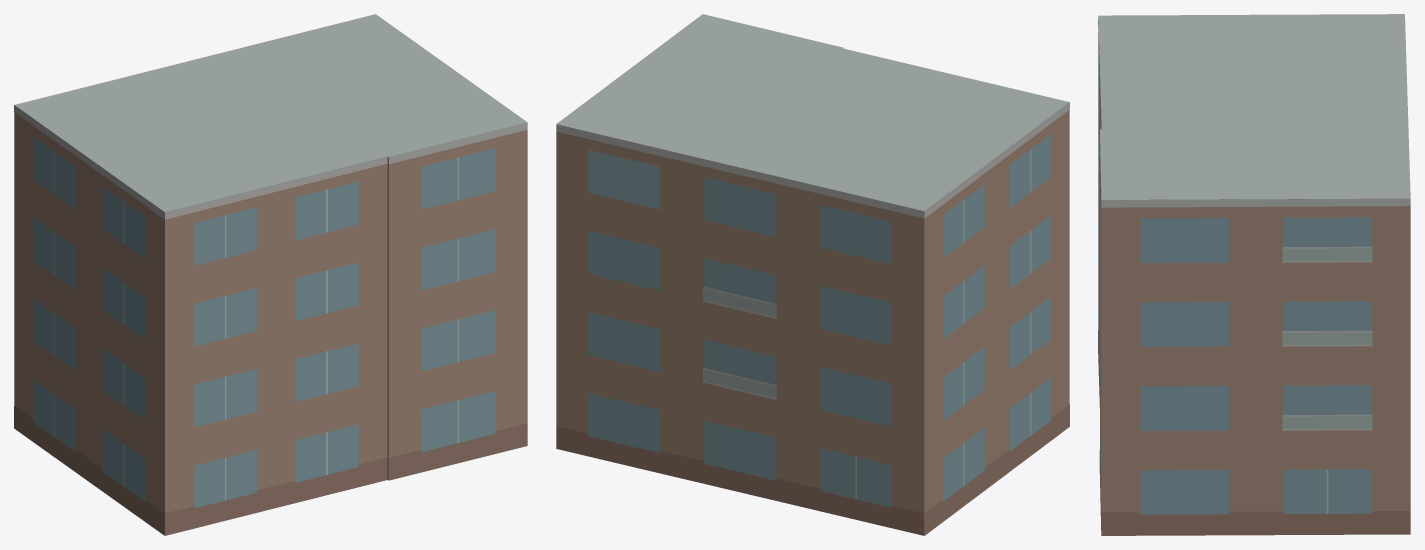
The model's file is survey-upis-32538438.glb.
The picture shows the model from 3 angles, left to right: view 1: azimuth 30°, elevation 25°; view 2: azimuth 150°, elevation 25°; view 3: azimuth 270°, elevation 25°; orthographic projection. The views are drawn at different scales.
Visible parts, largest first — view 1: survey-upis-32538438.tmp; view 2: survey-upis-32538438.tmp; view 3: survey-upis-32538438.tmp.
Part boxes in pixels (<box>): survey-upis-32538438.tmp: <box>14,14,527,535</box>; survey-upis-32538438.tmp: <box>556,14,1069,535</box>; survey-upis-32538438.tmp: <box>1098,14,1410,535</box>.
Size of the model in its own units: 12.84 by 10.8 by 9.12.
